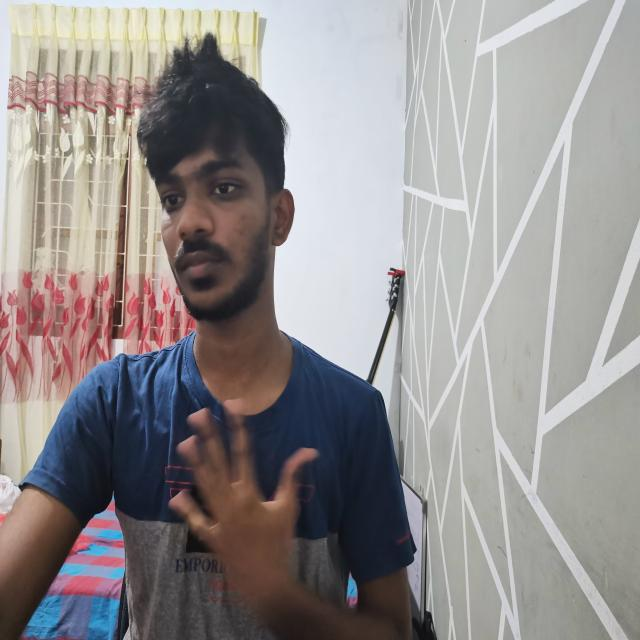Please: (166, 389, 420, 640)
